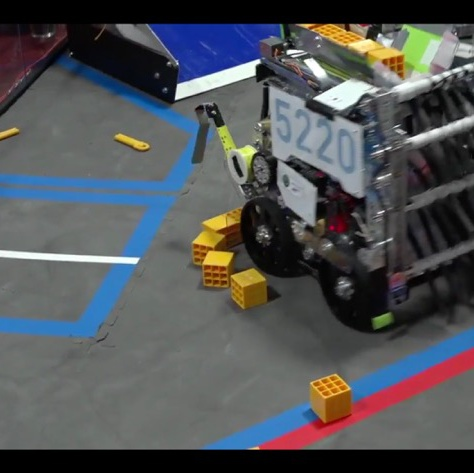robot: (191, 25, 474, 336)
